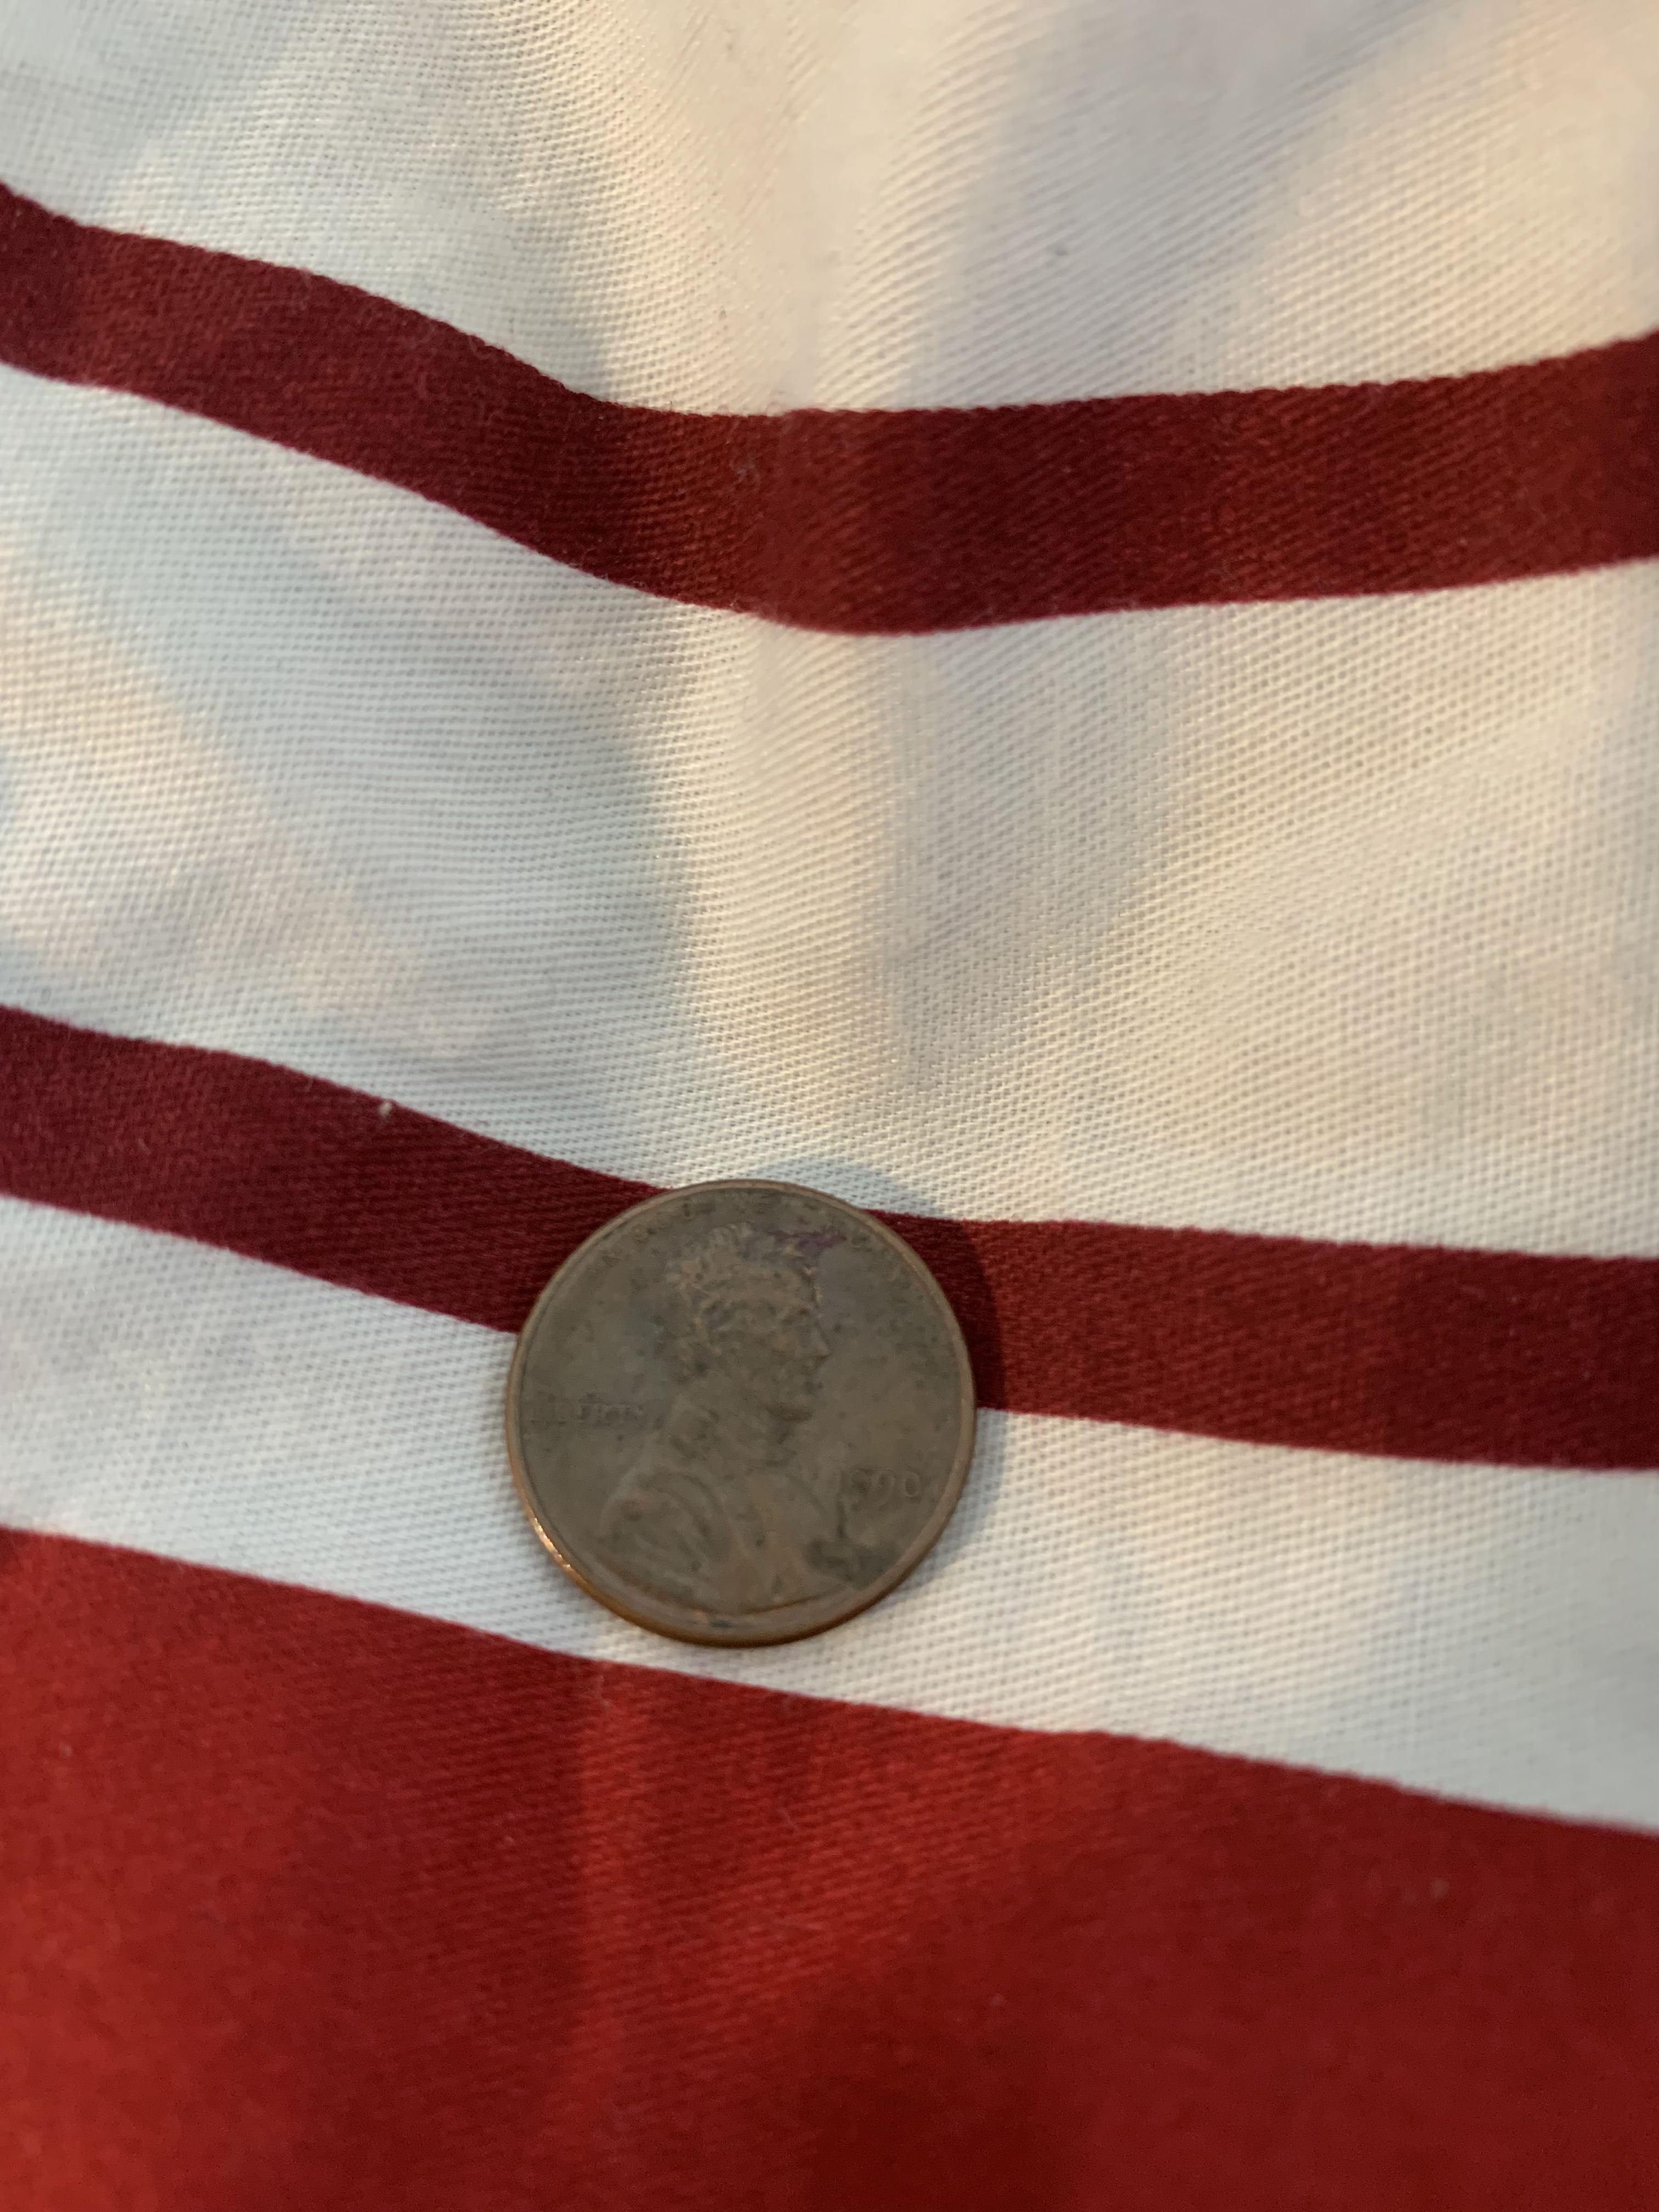Penny: (488, 1158, 1000, 1679)
